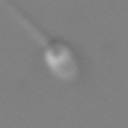normal: (4, 2, 51, 48)
